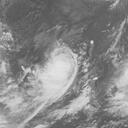cyclone: (3, 42, 75, 127)
